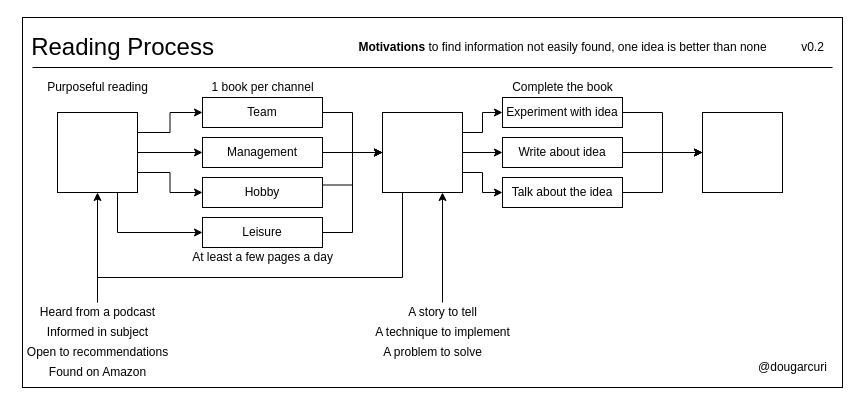
This 860x405 diagram has some shape labels left out. Each missing label, with the centre of its shape:
"Commit to reading" goes at (97,152).
"Flag what is interesting" goes at (422,152).
"Recommend book" goes at (742,152).
